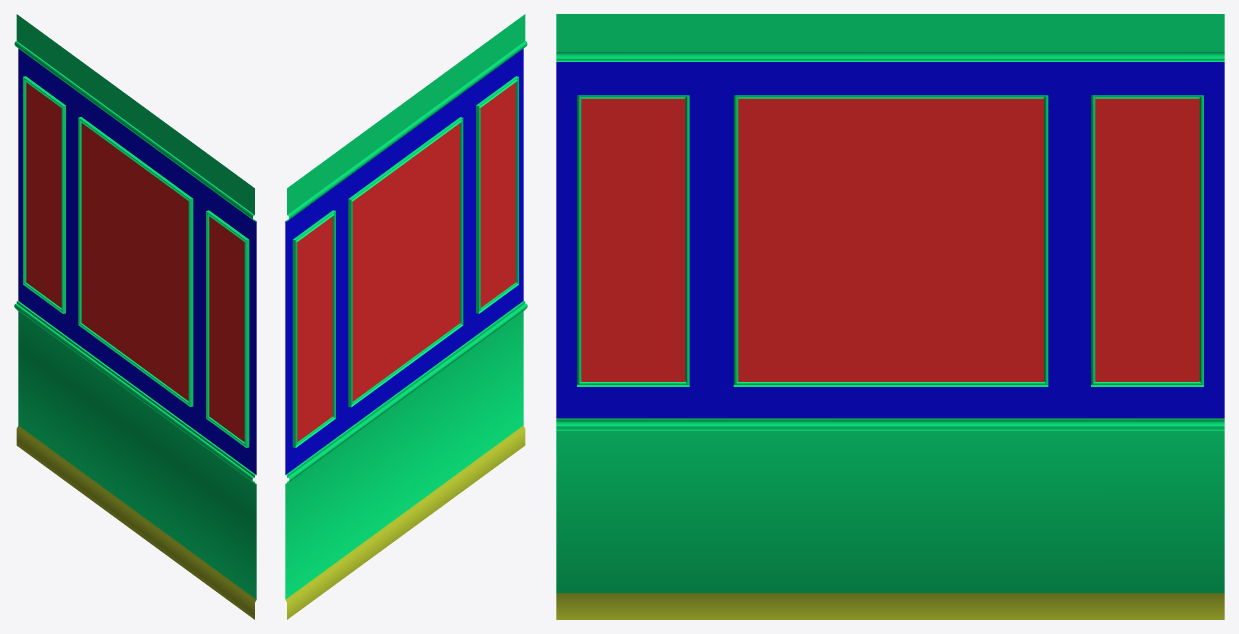
File: Wall_02.fbx
3 renders of one model, left to right at view 1: azimuth 30°, elevation 25°; view 2: azimuth 150°, elevation 25°; view 3: azimuth 270°, elevation 25°, orthographic. The views are drawn at different scales.
Visible parts, largest first — view 1: Wall_02; view 2: Wall_02; view 3: Wall_02.
Boxes of the visible parts, <box> form: Wall_02: <box>14,14,256,619</box>; Wall_02: <box>285,14,527,619</box>; Wall_02: <box>556,14,1224,619</box>.
Bounding box in the file's own units: 1.98 × 200 × 200.
